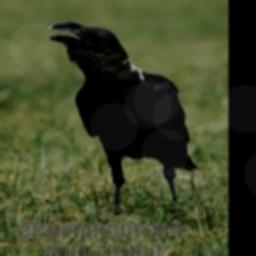Crow: (41, 16, 202, 220)
